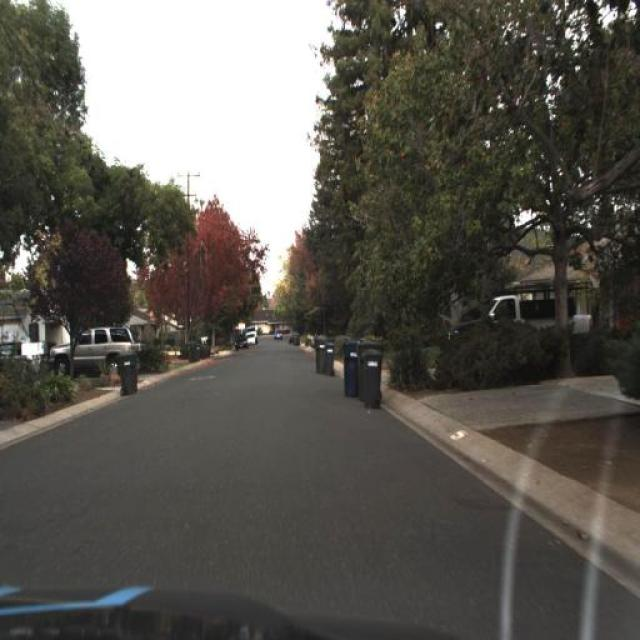car: (41, 303, 153, 396), (462, 280, 588, 336), (244, 323, 258, 346), (234, 334, 248, 350), (273, 328, 282, 341)
